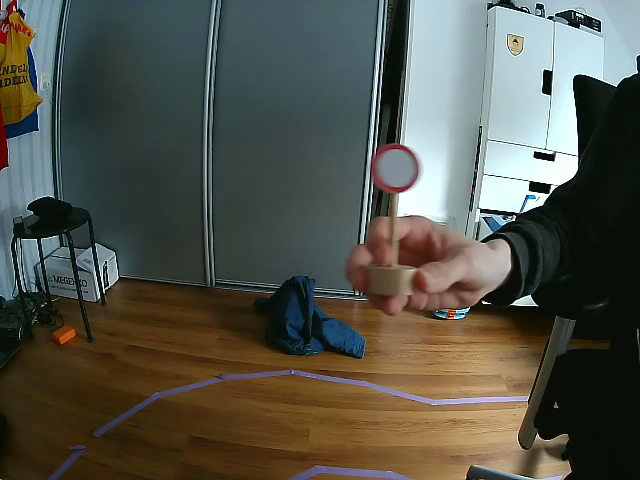wegdicht: (370, 145, 421, 197)
